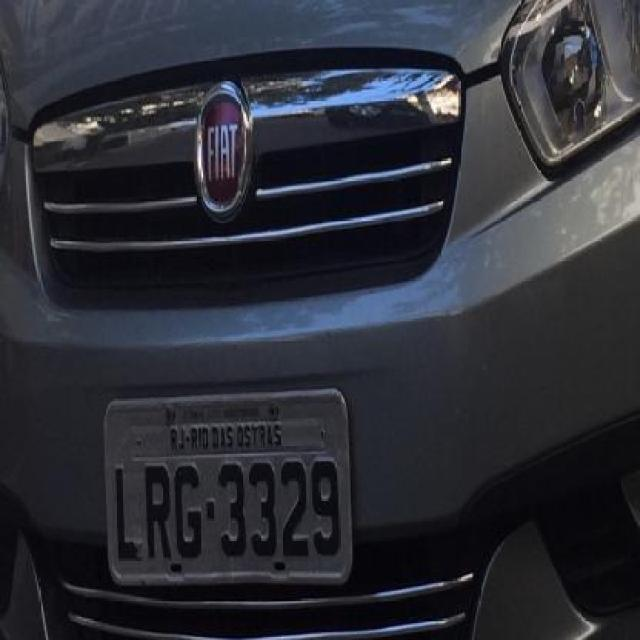old_plate: (93, 381, 369, 594)
